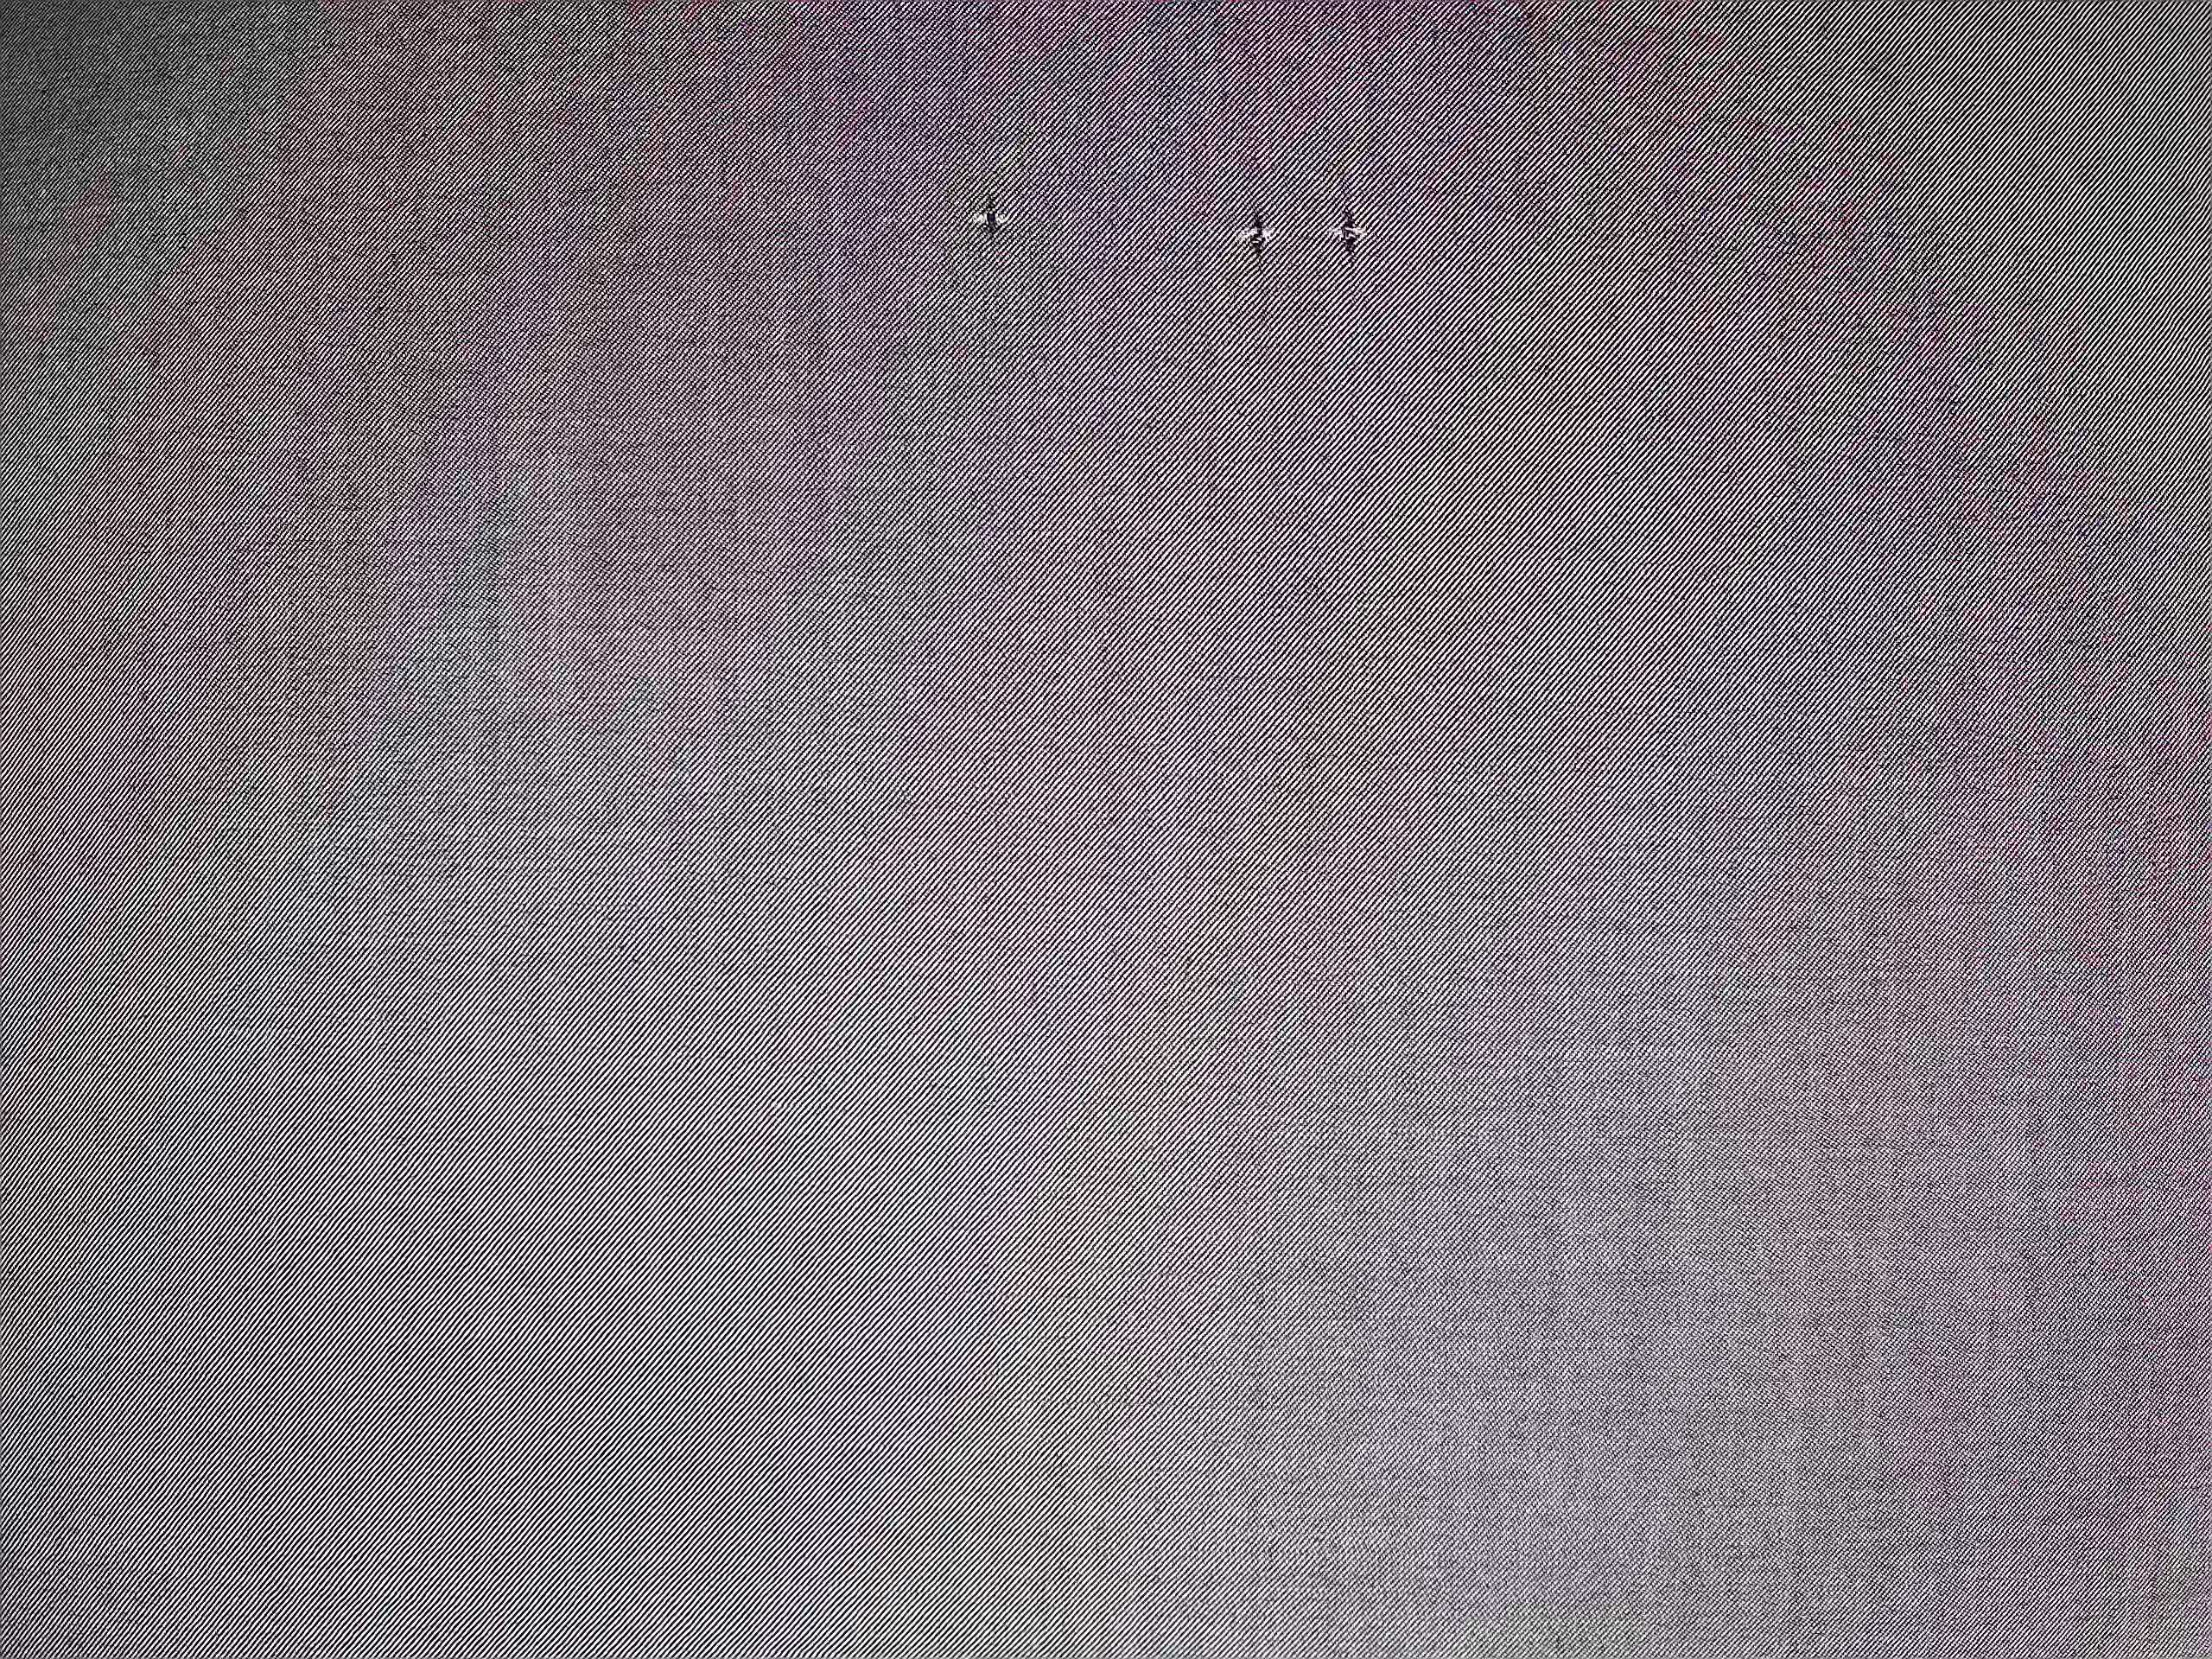rubbing-hole: (1217, 178, 1393, 291), (954, 176, 1029, 258)
